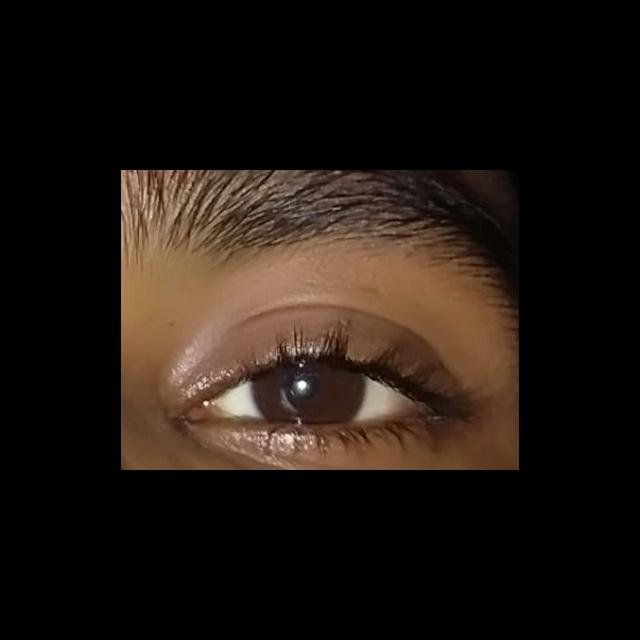eye: (211, 364, 413, 426)
iris: (250, 366, 368, 424)
